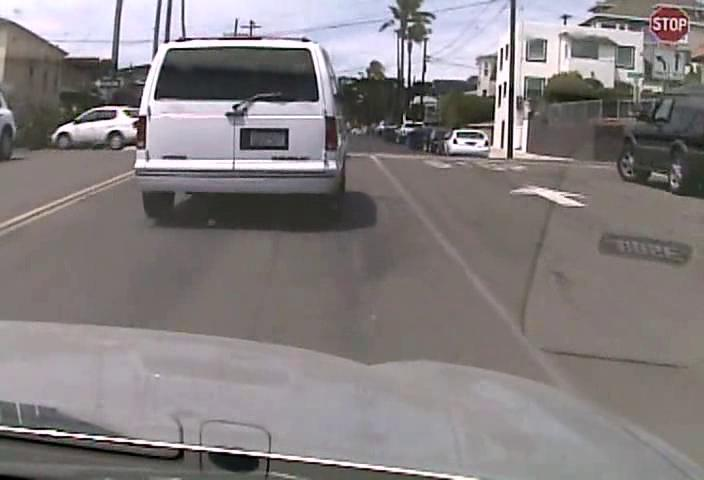stop: (649, 5, 690, 43)
